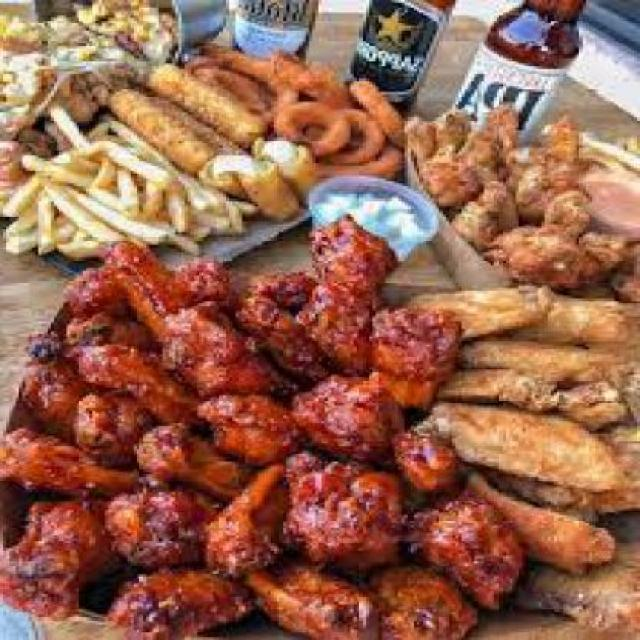french fries: (3, 122, 242, 258)
onion rings: (204, 48, 427, 164)
